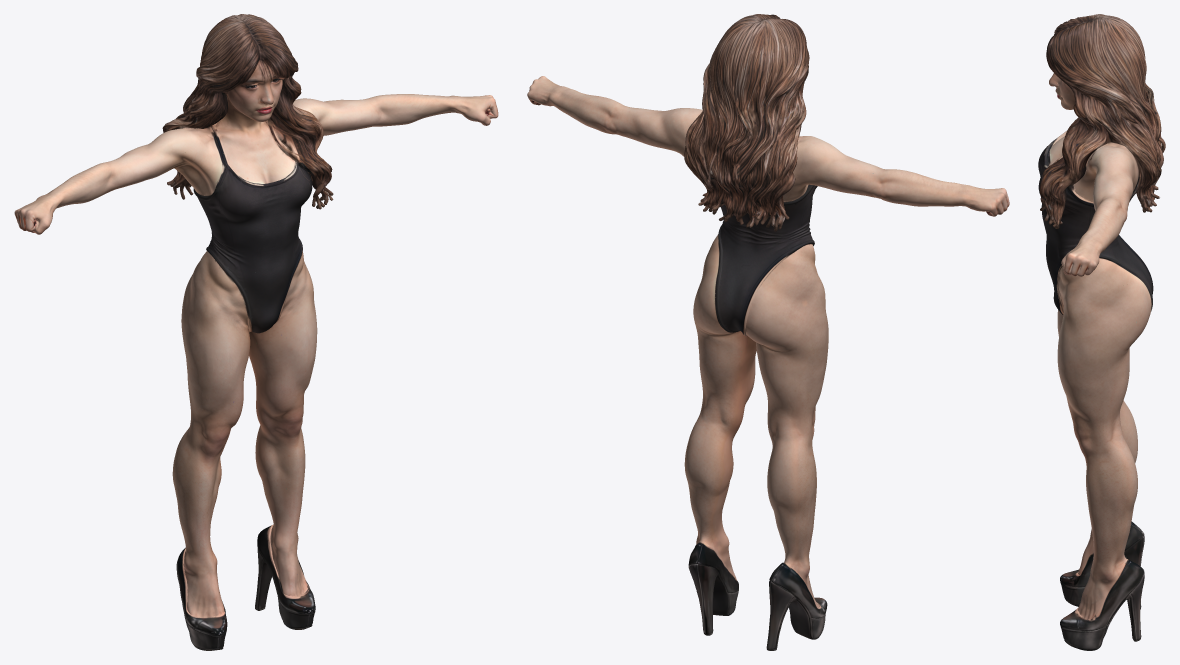
The model's file is body.glb.
3 views of the same model, side by side, from view 1: azimuth 30°, elevation 25°; view 2: azimuth 150°, elevation 25°; view 3: azimuth 270°, elevation 25° (orthographic).
Parts seen in each view (by area): view 1: tripo_part_2, tripo_part_1, tripo_part_0, tripo_part_3, tripo_part_6, tripo_part_4, tripo_part_8, tripo_part_10, tripo_part_5, tripo_part_13, tripo_part_11, tripo_part_9 (+2 smaller); view 2: tripo_part_0, tripo_part_2, tripo_part_1, tripo_part_6, tripo_part_3, tripo_part_4, tripo_part_9, tripo_part_7, tripo_part_5; view 3: tripo_part_1, tripo_part_0, tripo_part_4, tripo_part_5, tripo_part_3, tripo_part_14, tripo_part_7, tripo_part_2, tripo_part_12, tripo_part_8, tripo_part_11, tripo_part_10 (+1 smaller).
Boxes of the visible parts, bbox=[...] form: tripo_part_2: bbox=[172, 275, 250, 617]; tripo_part_1: bbox=[249, 261, 317, 596]; tripo_part_0: bbox=[162, 14, 333, 209]; tripo_part_3: bbox=[206, 212, 302, 333]; tripo_part_6: bbox=[14, 128, 193, 234]; tripo_part_4: bbox=[293, 94, 468, 135]; tripo_part_8: bbox=[197, 168, 313, 230]; tripo_part_10: bbox=[214, 101, 300, 189]; tripo_part_5: bbox=[255, 524, 315, 629]; tripo_part_13: bbox=[177, 127, 225, 196]; tripo_part_11: bbox=[224, 58, 282, 121]; tripo_part_9: bbox=[181, 251, 248, 328]; tripo_part_0: bbox=[684, 14, 809, 231]; tripo_part_2: bbox=[756, 269, 828, 607]; tripo_part_1: bbox=[684, 254, 756, 579]; tripo_part_6: bbox=[795, 136, 1009, 216]; tripo_part_3: bbox=[715, 202, 814, 335]; tripo_part_4: bbox=[544, 85, 702, 156]; tripo_part_9: bbox=[745, 243, 816, 352]; tripo_part_7: bbox=[766, 562, 827, 650]; tripo_part_5: bbox=[688, 541, 738, 635]; tripo_part_1: bbox=[1057, 280, 1151, 619]; tripo_part_0: bbox=[1040, 14, 1165, 228]; tripo_part_4: bbox=[1072, 142, 1139, 255]; tripo_part_5: bbox=[1060, 558, 1144, 650]; tripo_part_3: bbox=[1042, 211, 1153, 314]; tripo_part_14: bbox=[1059, 258, 1144, 305]; tripo_part_7: bbox=[1060, 521, 1144, 609]; tripo_part_2: bbox=[1057, 310, 1137, 575]; tripo_part_12: bbox=[1061, 245, 1099, 276]; tripo_part_8: bbox=[1038, 146, 1131, 226]; tripo_part_11: bbox=[1052, 73, 1077, 109]; tripo_part_10: bbox=[1043, 130, 1067, 169].
Size of the model in its own units: 0.7929 by 0.9815 by 0.1865.
Materials: 22 (22 with a texture image).
